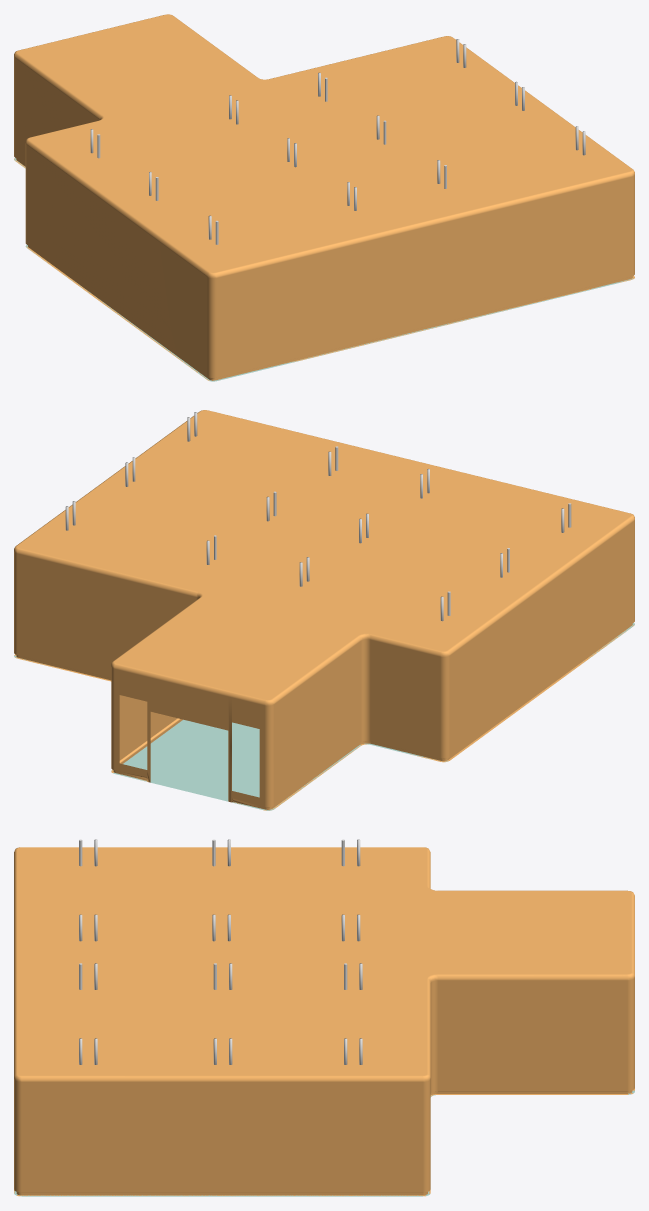
File: EspacoQuase 1.fbx
3 views of the same model, one above another, from view 1: azimuth 30°, elevation 25°; view 2: azimuth 150°, elevation 25°; view 3: azimuth 270°, elevation 25° (orthographic). The views are drawn at different scales.
Parts seen in each view (by area): view 1: Layout.002, Layout.001; view 2: Layout.002, Layout.001; view 3: Layout.002, Layout.001.
Boxes of the visible parts, x1,y1,x2,y2 form: Layout.002: (14,14,634,380); Layout.001: (14,158,633,381); Layout.002: (14,410,634,810); Layout.001: (14,623,634,810); Layout.002: (14,847,634,1196); Layout.001: (14,1090,634,1196).
Size of the model in its own units: 3061 by 894 by 3474.
